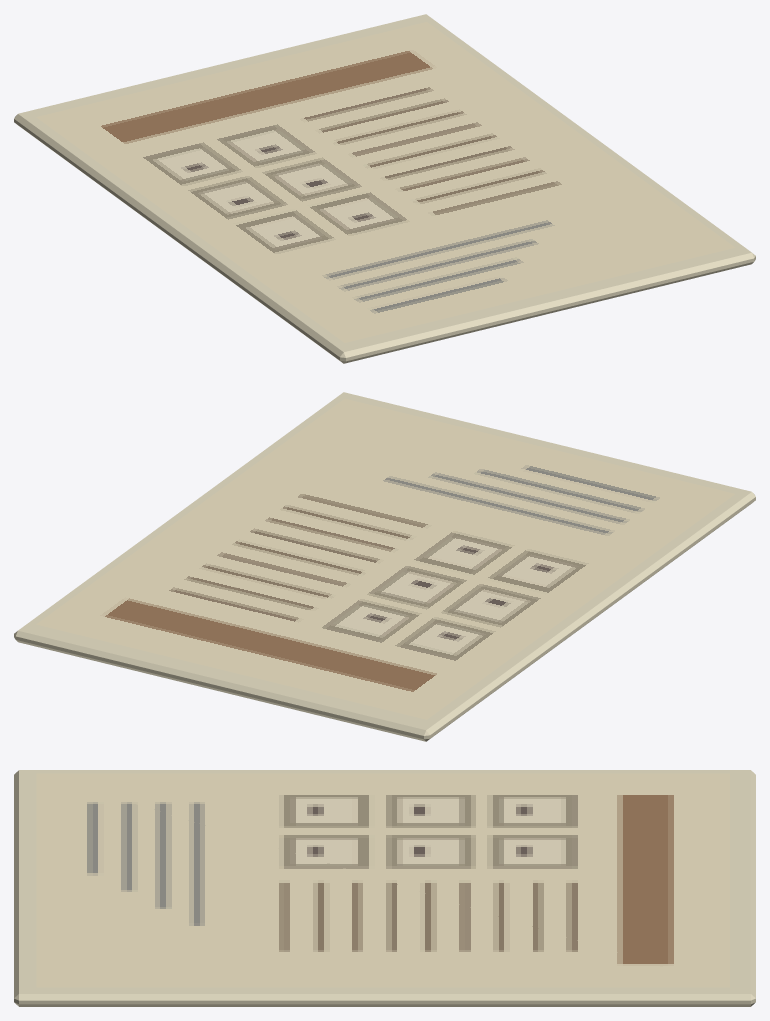
The model's file is character_sheet.glb.
3 renders of one model, top to bottom at view 1: azimuth 30°, elevation 25°; view 2: azimuth 150°, elevation 25°; view 3: azimuth 270°, elevation 25°, orthographic. The views are drawn at different scales.
Visible parts, largest first — view 1: block_printed face, block_paper or card stock; view 2: block_printed face, block_paper or card stock; view 3: block_printed face, block_paper or card stock.
Boxes of the visible parts, box(x1,y1,x2,y2) form: block_printed face: box(36, 21, 735, 342); block_paper or card stock: box(14, 14, 755, 363); block_printed face: box(36, 398, 735, 719); block_paper or card stock: box(14, 392, 755, 741); block_printed face: box(36, 773, 729, 987); block_paper or card stock: box(14, 770, 755, 1006).
Size of the model in its own units: 0.0485 by 0.00144 by 0.0667.
Materials: 1 (1 with a texture image).
